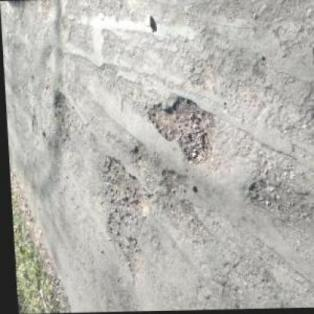Hueco: (144, 94, 218, 169), (94, 153, 146, 226), (244, 178, 308, 222), (103, 212, 140, 279), (157, 168, 194, 227), (52, 89, 78, 131), (128, 144, 146, 174)
